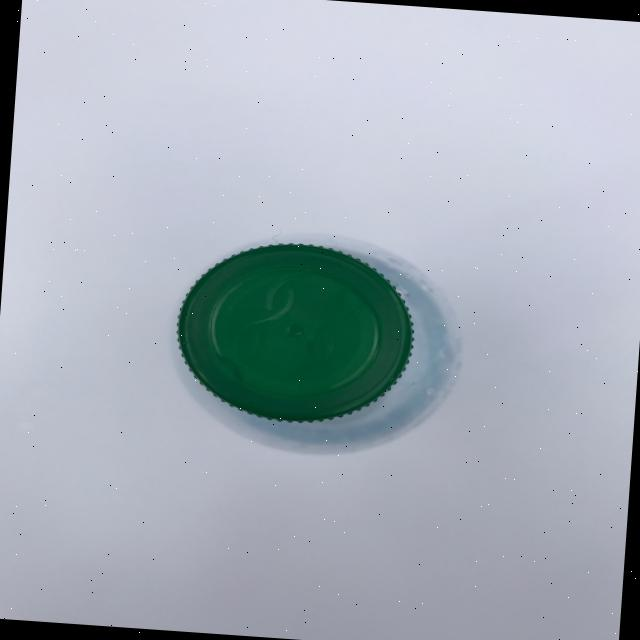plastic: (169, 233, 421, 431)
